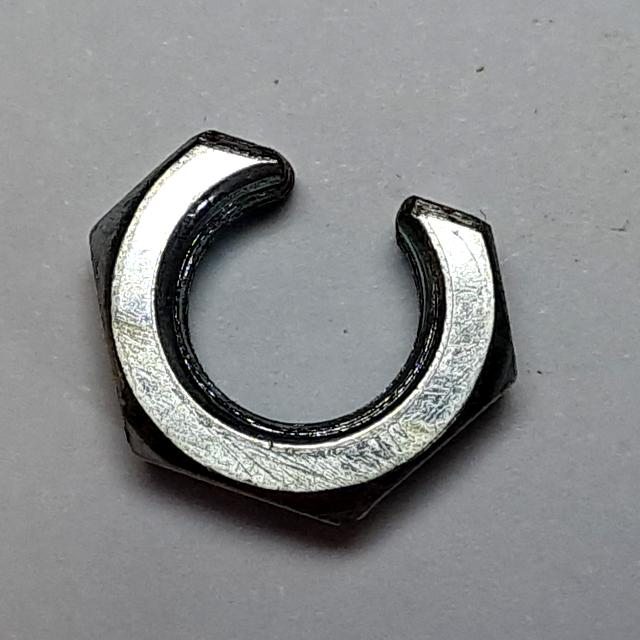Fracture: (77, 119, 527, 547)
